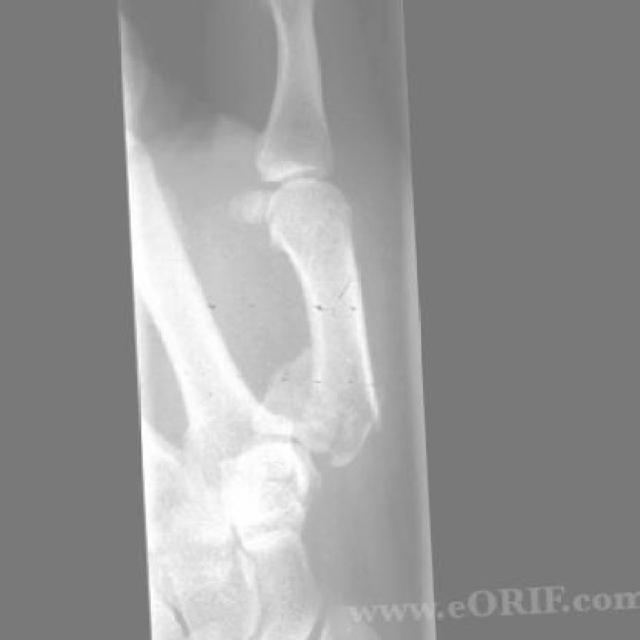Fracture: (254, 337, 394, 471)
